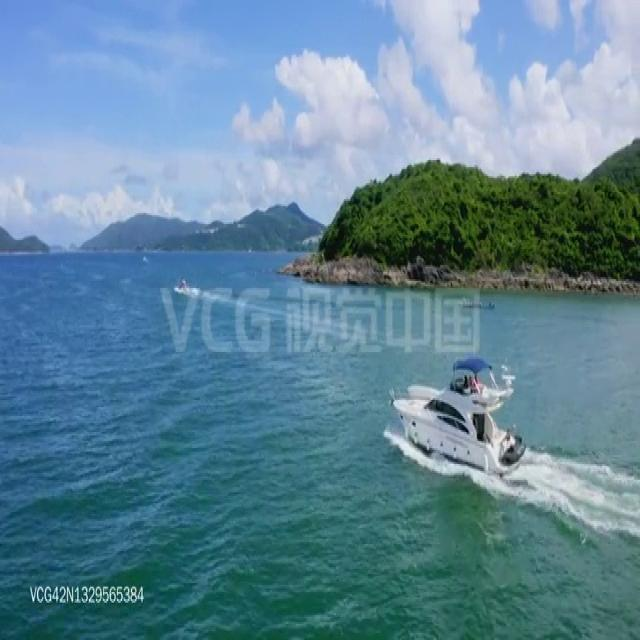houseboat: (388, 364, 527, 474), (174, 274, 195, 300)
